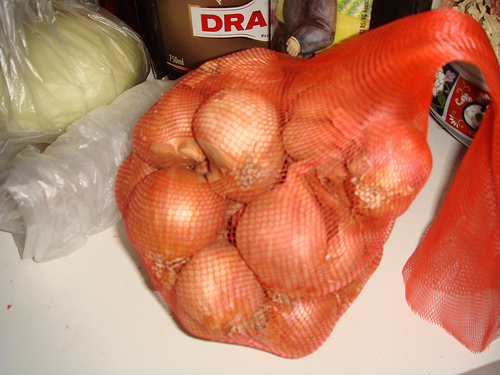onion: (232, 157, 332, 304), (127, 168, 226, 279), (171, 239, 269, 344), (344, 105, 432, 196), (312, 181, 378, 288)
